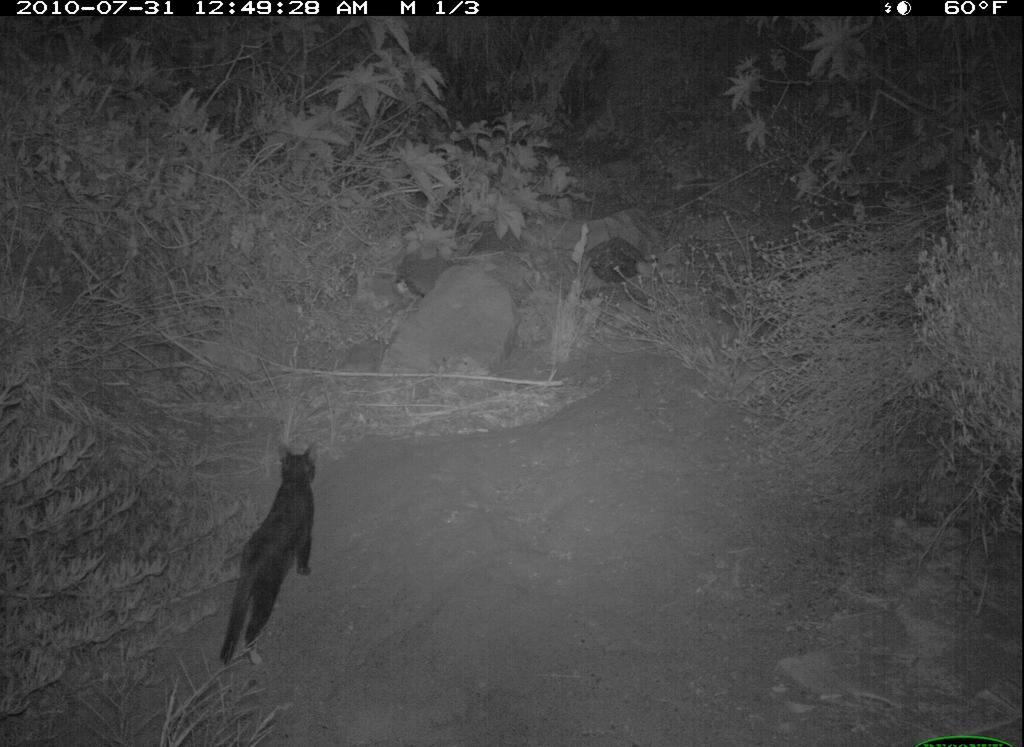cat: (221, 441, 322, 667)
